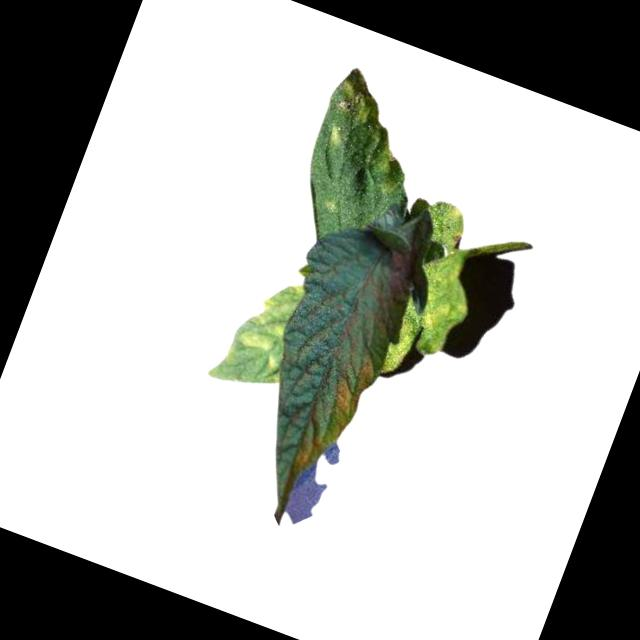Leaf_Mold: (378, 240, 484, 391), (304, 63, 424, 194), (223, 267, 310, 384), (323, 352, 378, 426), (283, 427, 326, 479)
